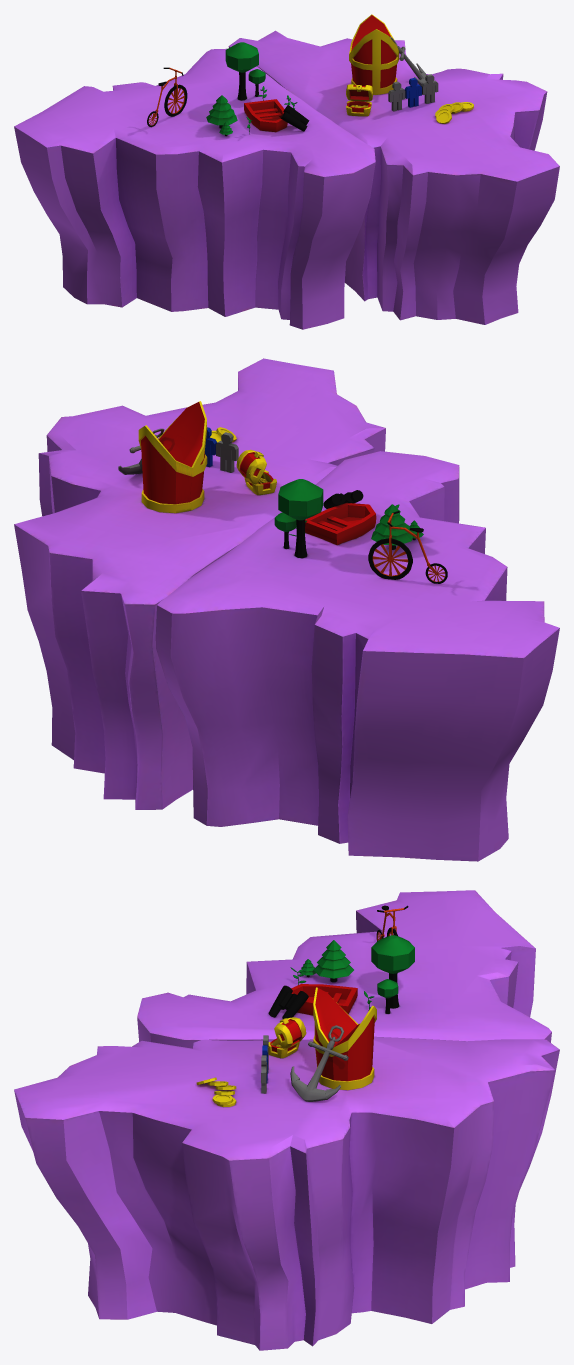
File: 010-links_rechts.glb
3 renders of one model, top to bottom at view 1: azimuth 30°, elevation 25°; view 2: azimuth 150°, elevation 25°; view 3: azimuth 270°, elevation 25°, orthographic. The views are drawn at different scales.
Parts seen in each view (by area): view 1: GEO.Belgium.L, GEO.Belgium.R; view 2: GEO.Belgium.L, GEO.Belgium.R; view 3: GEO.Belgium.R, GEO.Belgium.L.
Part boxes in pixels (bbox=[...]): GEO.Belgium.L: bbox=[14, 42, 375, 329]; GEO.Belgium.R: bbox=[228, 14, 559, 324]; GEO.Belgium.L: bbox=[155, 451, 559, 861]; GEO.Belgium.R: bbox=[14, 358, 385, 809]; GEO.Belgium.R: bbox=[14, 987, 559, 1350]; GEO.Belgium.L: bbox=[137, 890, 551, 1048].
Size of what is drawn, in the model's own units: 1.73 by 0.8921 by 1.48.
Materials: 1 (1 with a texture image).
